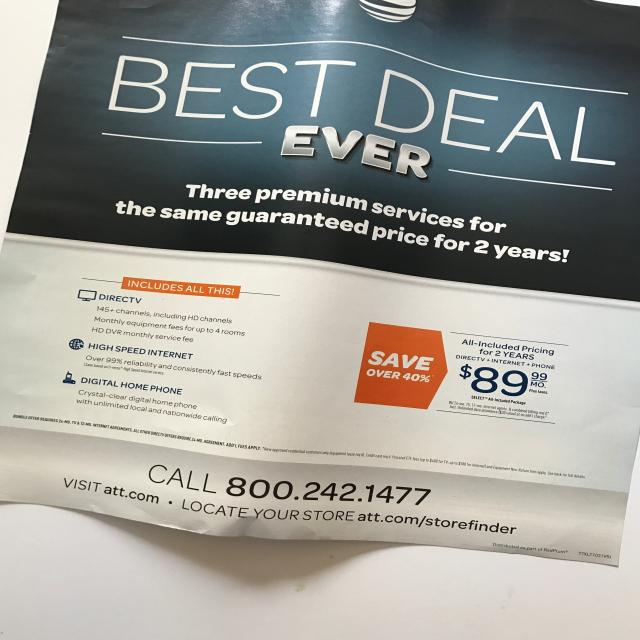paper: (0, 0, 640, 578)
